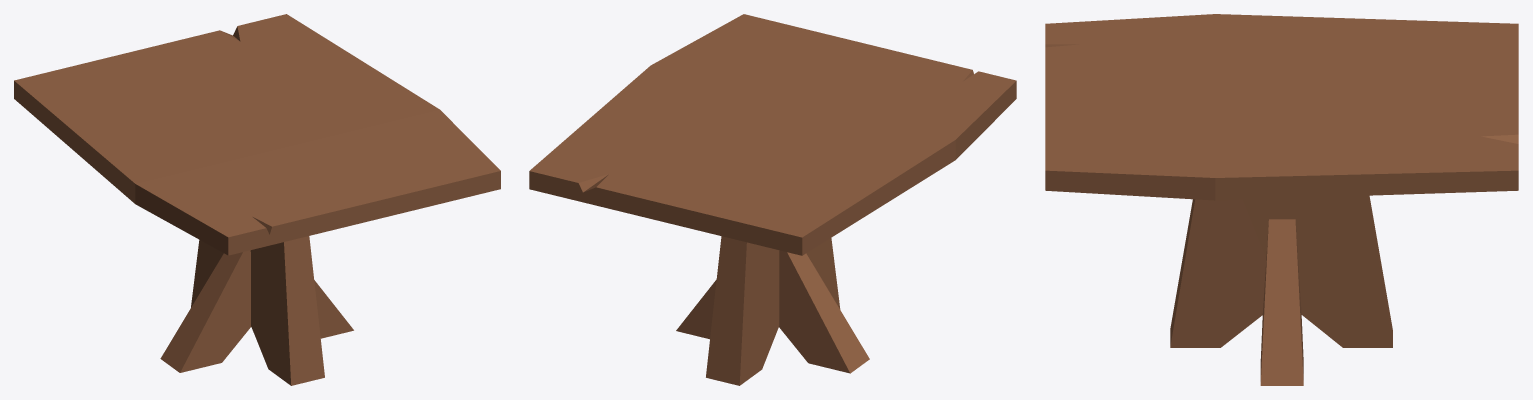
The model's file is table.fbx.
The picture shows the model from 3 angles, left to right: view 1: azimuth 30°, elevation 25°; view 2: azimuth 150°, elevation 25°; view 3: azimuth 270°, elevation 25°; orthographic projection. The views are drawn at different scales.
Parts seen in each view (by area): view 1: table; view 2: table; view 3: table.
Part boxes in pixels (x1,y1,x2,y2): table: (14,14,500,385); table: (529,14,1016,385); table: (1045,14,1518,385).
Size of the model in its own units: 105 by 72.7 by 128.
Materials: 1 (1 with a texture image).
